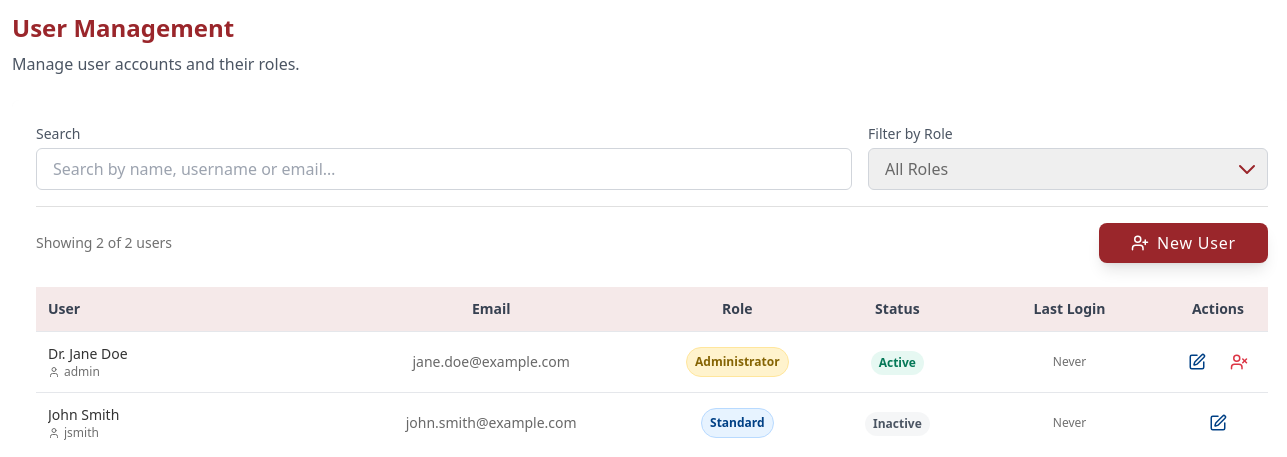
Test: DashboardUserManagement › filters by role code
Expected: the text "Dr. Jane Doe" is shown, [48,344,128,363]
Select "Standard" in the dropdown labelled "Filter by Role" at (1068, 169), box [868,148,1268,190]
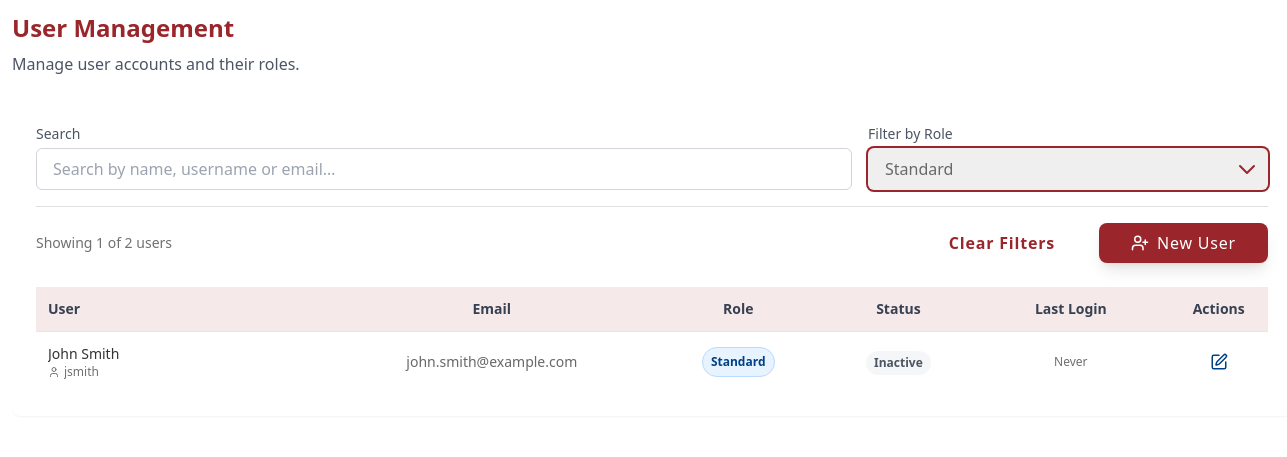
Expected: the text "John Smith" is shown, [48,344,119,363]
Result: the text "Dr. Jane Doe" is gone
